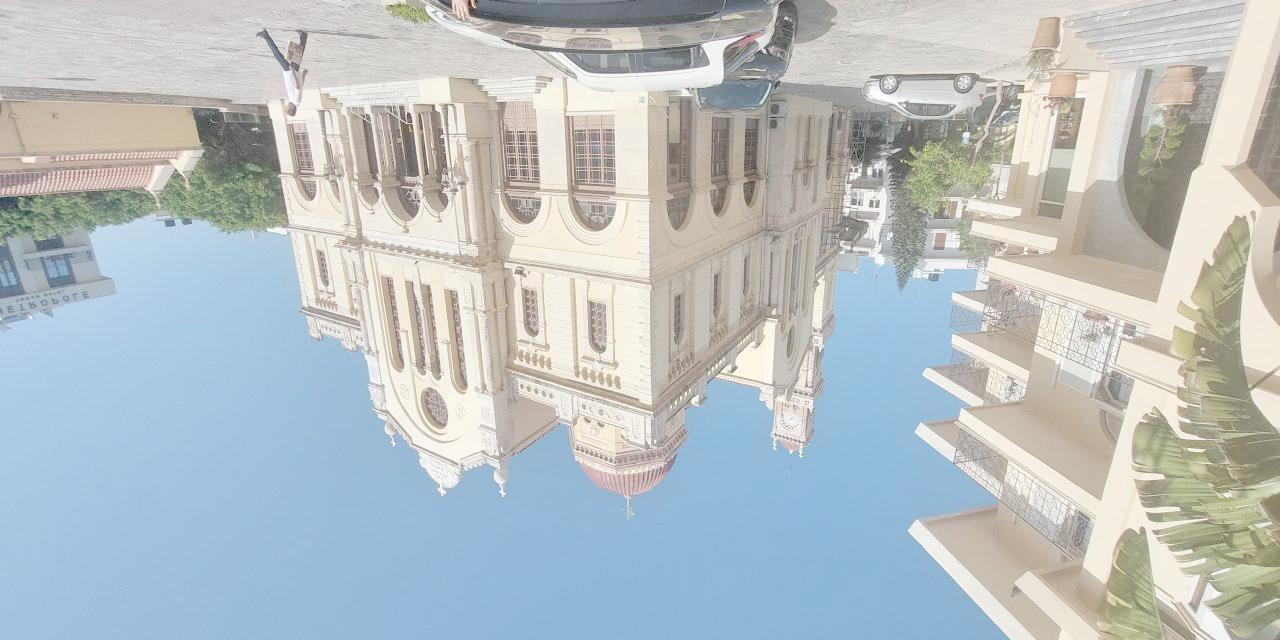Agios Minas: (266, 87, 851, 524)
